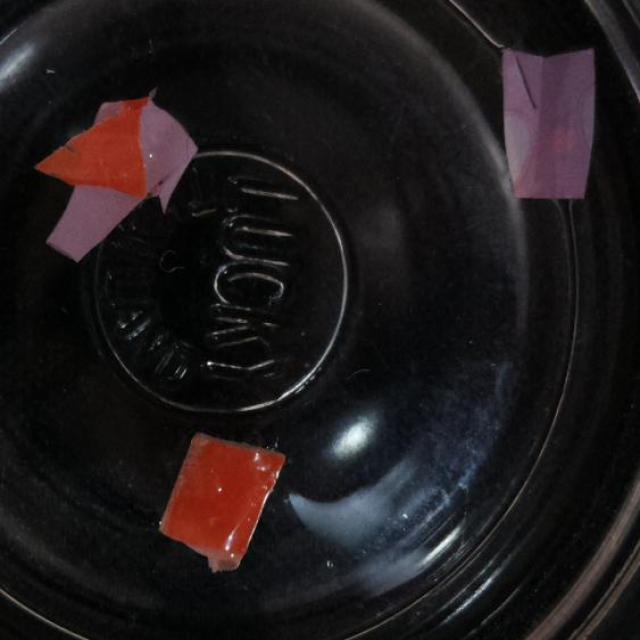fiber: (32, 89, 198, 267), (157, 431, 287, 576), (500, 43, 598, 203)
